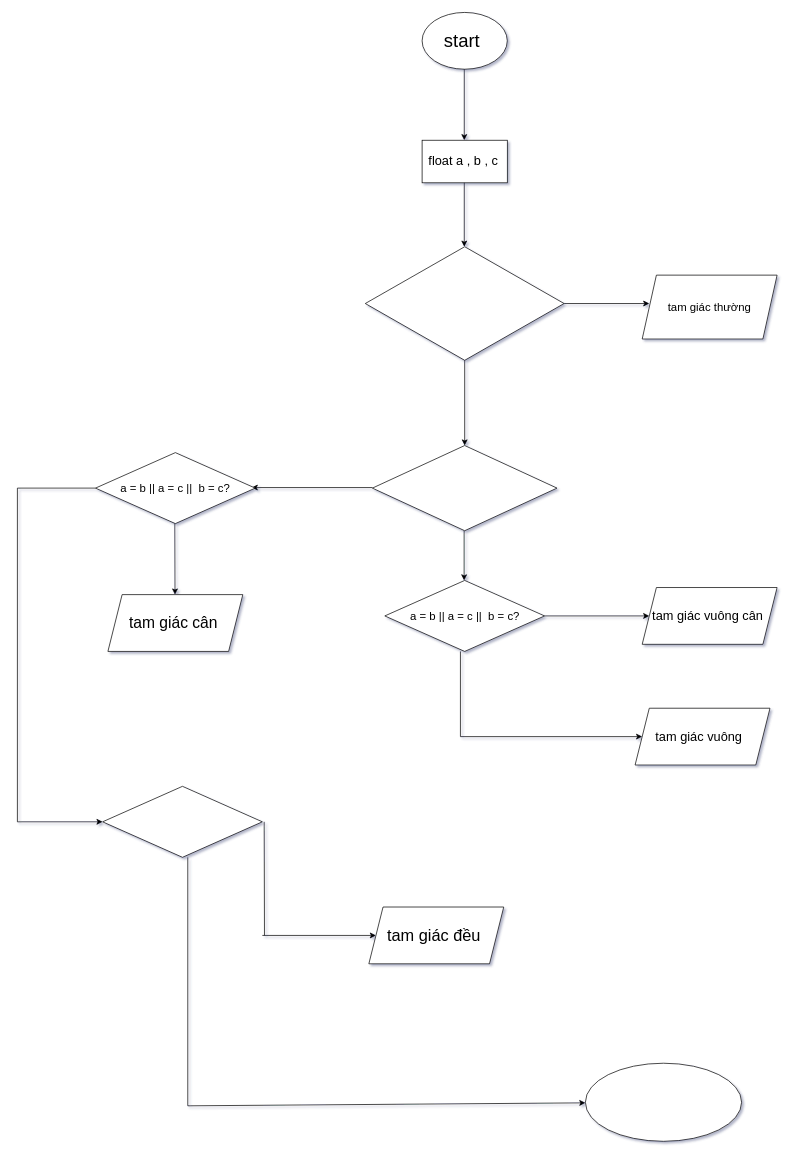
Image size: 794x1158. Some labels were removed from this diagram. The centre of each missing label's shape, as x and y in pixels:
"a = b = c?" goes at point 182,821.
"a+b > c hoặc a+c > b hoặc b+c > a ?" goes at point 464,303.
"a^2 + b^2 = c^2 hoặc b^2 + b^2 = a^2 hoặc a^2 + c^2 = b^2 ?" goes at point 464,488.
"End" goes at point 663,1102.
